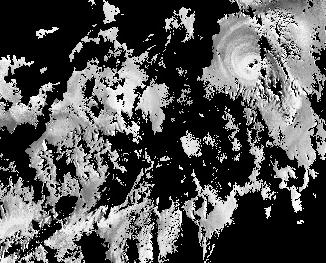CE: (222, 30, 285, 85)
